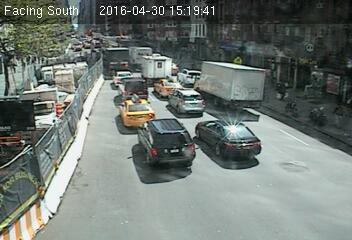neg: (282, 86, 306, 119), (172, 66, 189, 88), (237, 71, 252, 90), (108, 94, 121, 112), (87, 45, 100, 62)
pos: (329, 100, 350, 129)
